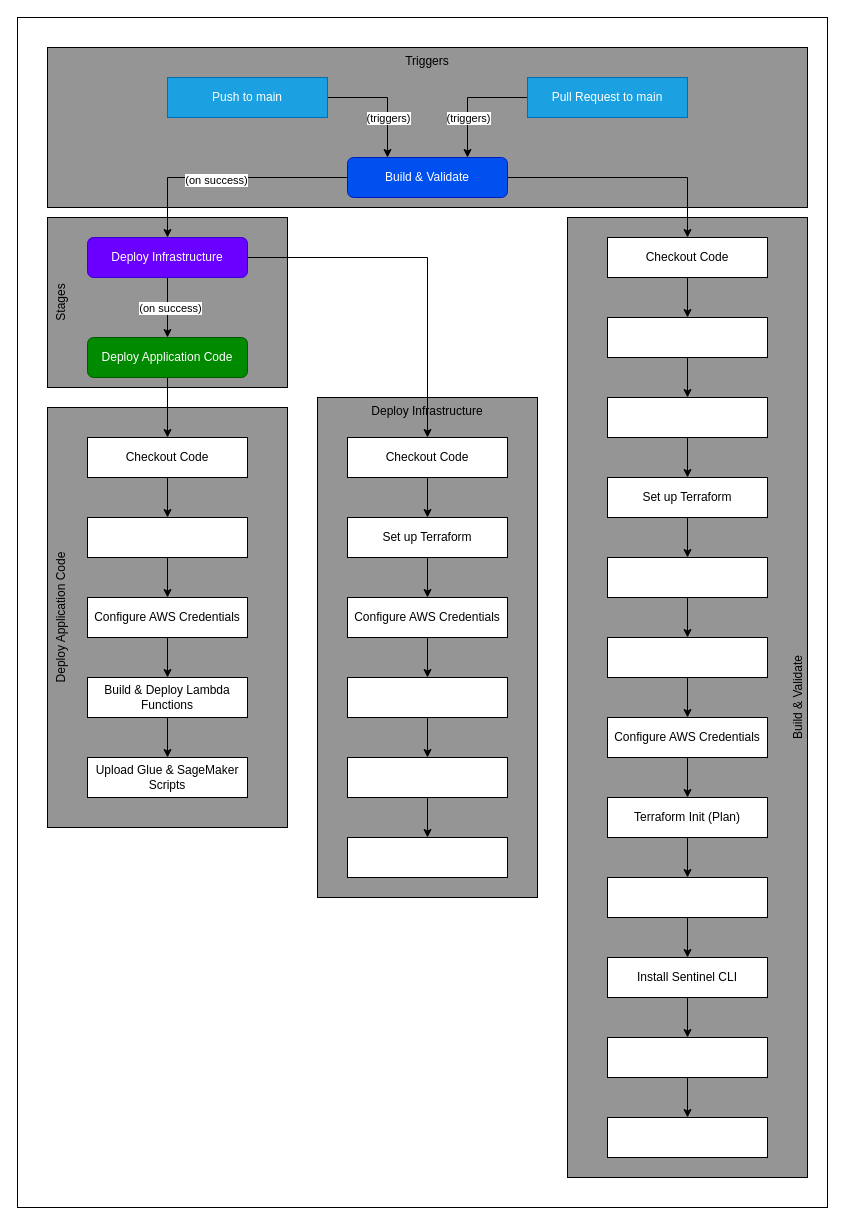
The diagram is 845 pixels wide and 1225 high, and some of its shapes have lost their labels. Each missing label, with the centre of its shape:
"Download Plan Artifact" belongs at [427,697].
"Install tfsec & Scan IaC" belongs at [687,657].
"Lint & Format Python" belongs at [687,417].
"Run Sentinel Policies" belongs at [687,1057].
"Set up Python" belongs at [167,537].
"Set up Python & Install Deps" belongs at [687,337].
"Terraform Apply" belongs at [427,857].
"Terraform Init (Apply)" belongs at [427,777].
"Terraform Plan" belongs at [687,897].
"Terraform Validate & Fmt" belongs at [687,577].
"Upload Plan Artifact" belongs at [687,1137].
